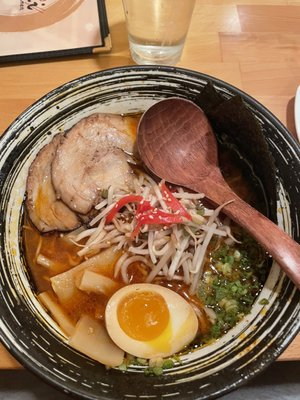salad: (137, 100, 300, 292)
